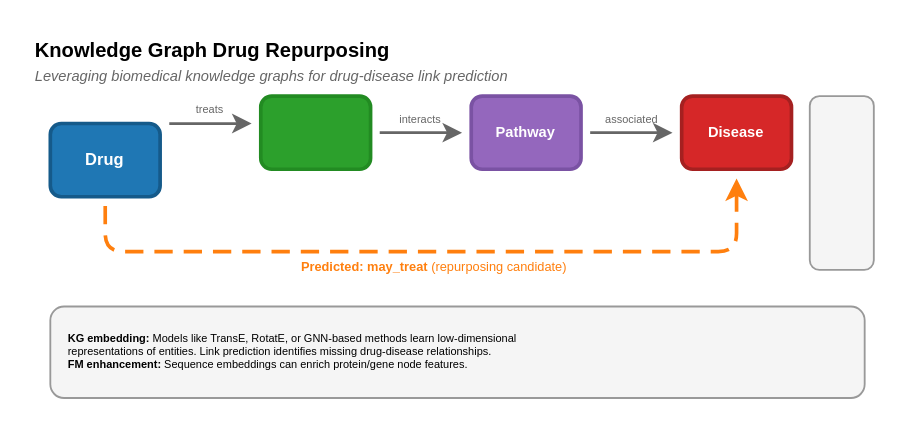
Image size: 906x430. Some labels were removed from this diagram. The box of each missing label's shape, as (x1, y1, x2, y2) in pixels:
KG Embed Model: (808, 94, 874, 270)
Target Protein: (258, 93, 371, 170)
